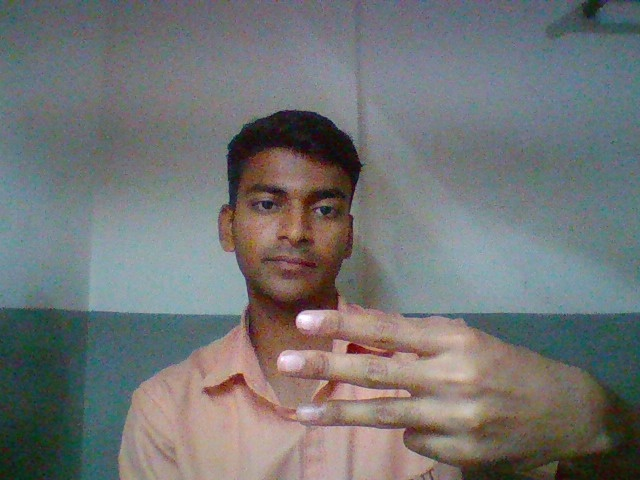E: (262, 298, 612, 476)
